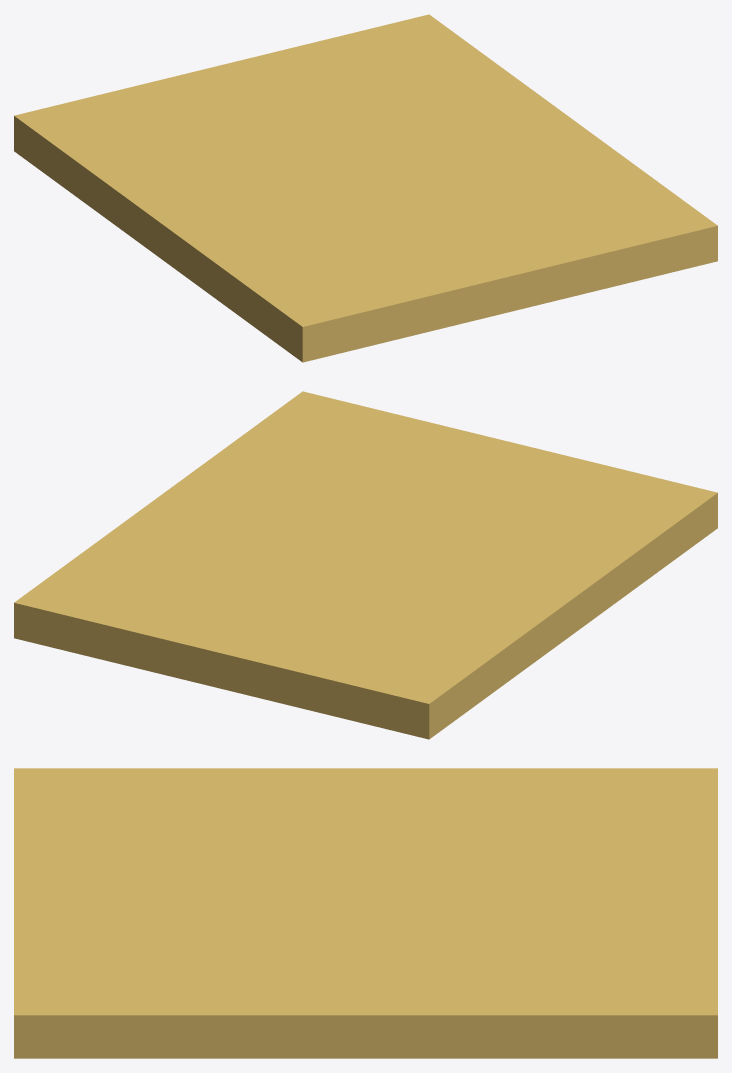
Rendered from double_entrance_door.glb.
3 views of the same model, one above another, from view 1: azimuth 30°, elevation 25°; view 2: azimuth 150°, elevation 25°; view 3: azimuth 270°, elevation 25° (orthographic). The views are drawn at different scales.
Visible parts, largest first — view 1: frame; view 2: frame; view 3: frame.
Part boxes in pixels (x1,y1,x2,y2): frame: [14, 14, 717, 362]; frame: [14, 391, 717, 739]; frame: [14, 768, 717, 1058].
Size of the model in its own units: 2.2 by 0.205 by 2.65.
